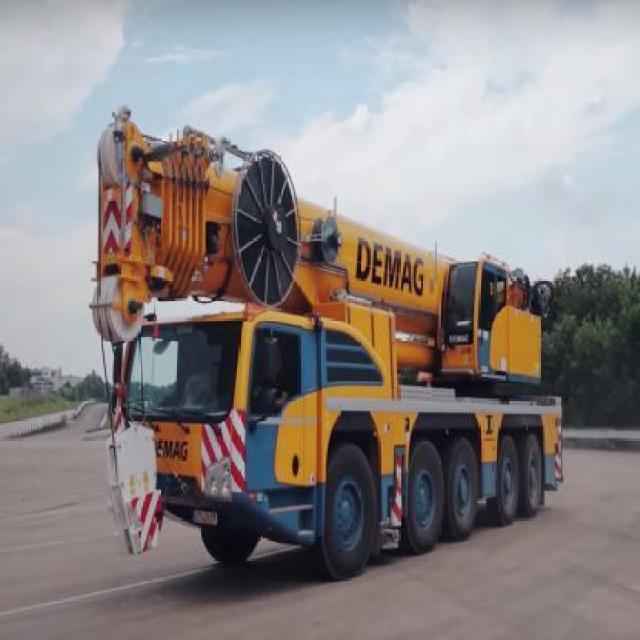Mobile Crane: (87, 110, 561, 576)
